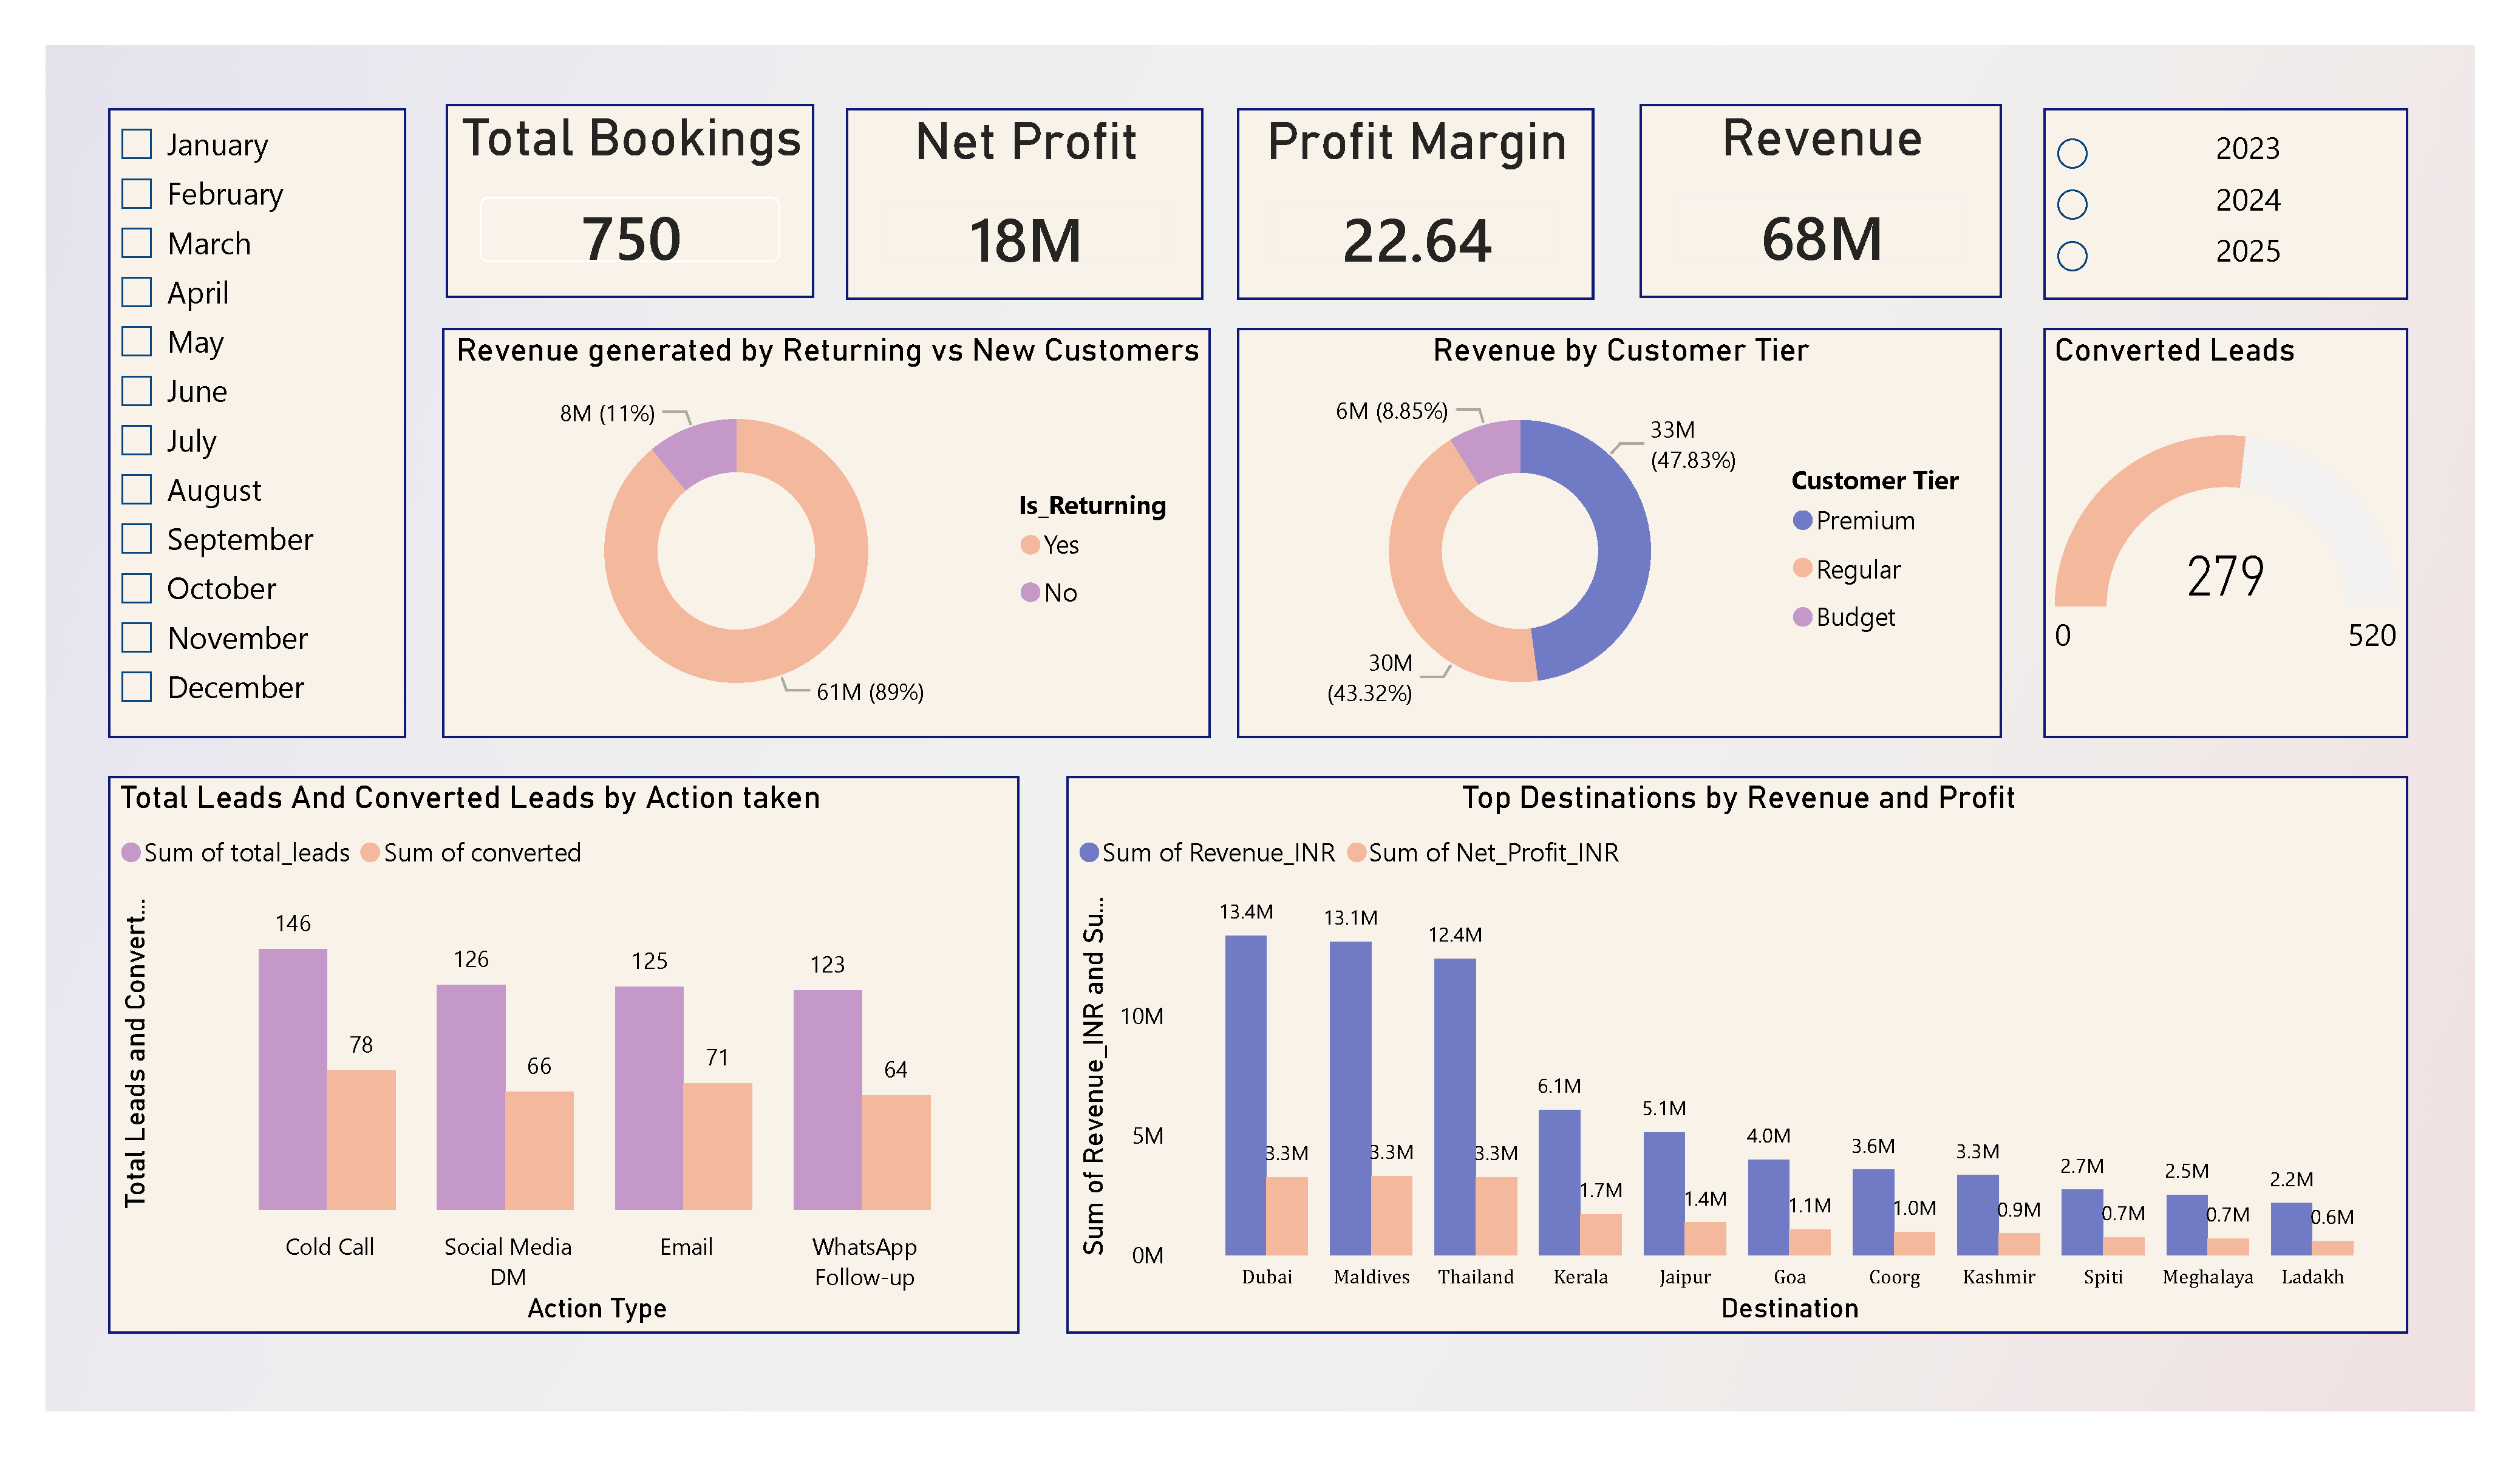

This screenshot's page, from the dashboard's own definition file:
{"tool":"powerbi","page":{"name":"Overview of Sales","canvas":[1280,720],"ordinal":0},"visuals":[{"type":"clusteredColumnChart","title":"Top Destinations by Revenue and Profit","fields":{"Category":["Bookings.Destination"],"Y":["Sum(Bookings.Revenue_INR)","Sum(Bookings.Net_Profit_INR)"]},"box":[537.5,385,707.5,293.8],"z":0},{"type":"donutChart","title":"Revenue by Customer Tier","fields":{"Category":["customer-level revenue + booking count.customer_tier"],"Y":["Sum(customer-level revenue + booking count.total_revenue)"]},"box":[627.5,148.8,403.8,216.2],"z":1000},{"type":"donutChart","title":"Revenue generated by Returning vs New Customers","fields":{"Category":["Customers.Is_Returning"],"Y":["Sum(Bookings.Revenue_INR)"]},"box":[209.2,148.8,405,216.2],"z":2000},{"type":"listSlicer","fields":{"Values":["Bookings.Year"]},"box":[1052.5,32.5,192.5,101.2],"z":3000},{"type":"cardVisual","title":"Total Bookings","fields":{"Data":["Sum(Customers.Total_Bookings)"]},"box":[211.2,31.2,193.8,101.2],"z":4000},{"type":"cardVisual","title":"Net Profit","fields":{"Data":["Sum(Bookings.Net_Profit_INR)"]},"box":[421.5,33,188.8,101.2],"z":5000},{"type":"cardVisual","title":"Profit Margin","fields":{"Data":["Avg(Bookings.Profit_Margin_%)"]},"box":[627.5,32.5,188.8,101.2],"z":6000},{"type":"cardVisual","title":"Revenue","fields":{"Data":["Sum(Bookings.Revenue_INR)"]},"box":[840,31.2,191.2,101.2],"z":7000},{"type":"clusteredColumnChart","title":"Total Leads And Converted Leads by Action taken","fields":{"Category":["Lead conversion rate by Action type.action_type"],"Y":["Sum(Lead conversion rate by Action type.total_leads)","Sum(Lead conversion rate by Action type.converted)"]},"box":[32.5,385,480,293.8],"z":8000},{"type":"listSlicer","fields":{"Values":["Bookings.Month_Name"]},"box":[32.5,32.5,157.5,332.5],"z":9000},{"type":"gauge","title":"Converted Leads","fields":{"MaxValue":["Sum(Lead conversion rate by Action type.total_leads)"],"Y":["Sum(Lead conversion rate by Action type.converted)"]},"box":[1052.5,148.8,192.5,216.2],"z":10000}]}

Visuals, with their boxes in screenshot pixels (x1, y1, x2, y2):
"Top Destinations by Revenue and Profit" clusteredColumnChart: select_region(1066, 773, 2391, 1323)
"Revenue by Customer Tier" donutChart: select_region(1234, 331, 1990, 736)
"Revenue generated by Returning vs New Customers" donutChart: select_region(451, 331, 1209, 736)
listSlicer - Bookings.Year: select_region(2030, 114, 2391, 303)
"Total Bookings" cardVisual: select_region(455, 111, 817, 301)
"Net Profit" cardVisual: select_region(848, 114, 1202, 304)
"Profit Margin" cardVisual: select_region(1234, 114, 1588, 303)
"Revenue" cardVisual: select_region(1632, 111, 1990, 301)
"Total Leads And Converted Leads by Action taken" clusteredColumnChart: select_region(120, 773, 1019, 1323)
listSlicer - Bookings.Month_Name: select_region(120, 114, 415, 736)
"Converted Leads" gauge: select_region(2030, 331, 2391, 736)
